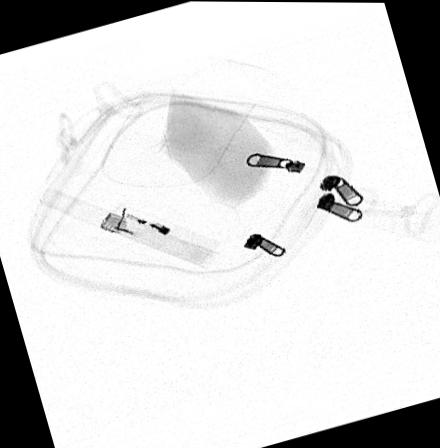Lighter: (99, 205, 189, 253)
